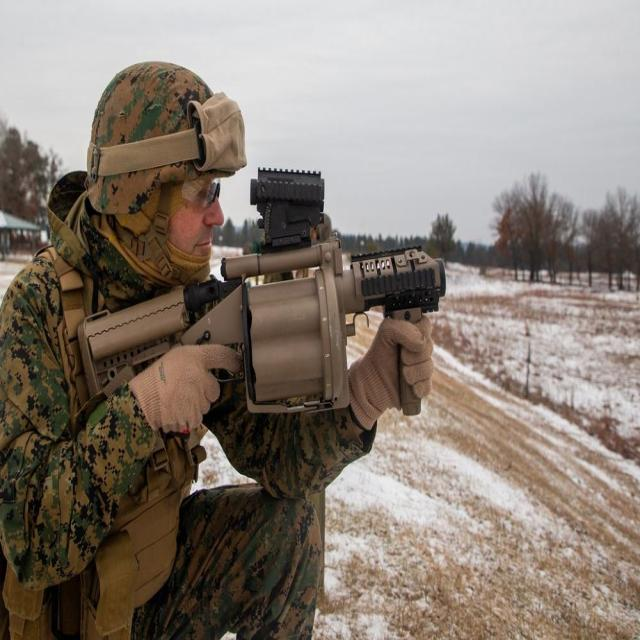weapon: (81, 162, 443, 449)
